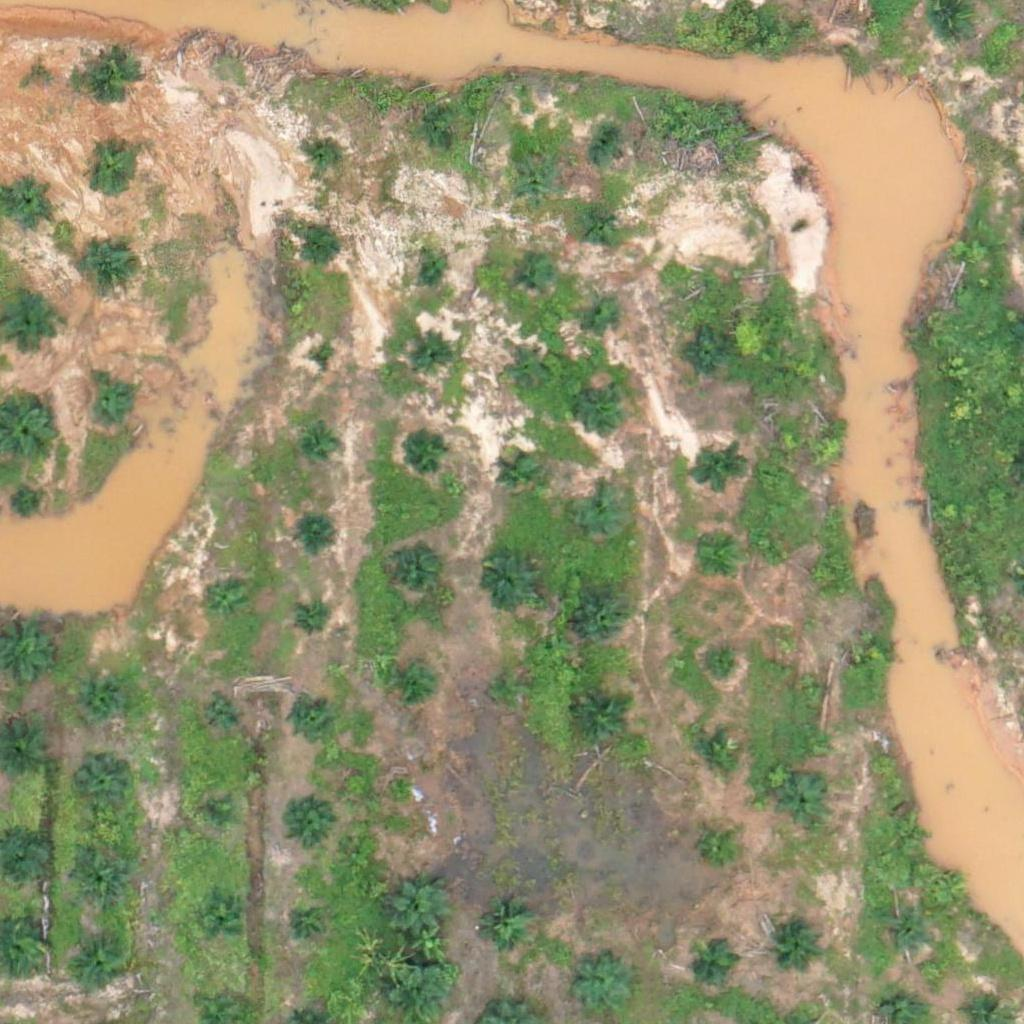Kelapa_Sawit: (475, 548, 538, 611), (473, 901, 536, 964), (572, 484, 635, 547), (387, 877, 450, 940), (571, 953, 633, 1016), (84, 146, 134, 197), (84, 52, 134, 103), (579, 591, 629, 642), (578, 694, 628, 745), (284, 796, 334, 847), (689, 726, 739, 777), (391, 545, 441, 596), (403, 426, 453, 477), (87, 242, 137, 292), (1, 175, 51, 225), (76, 856, 126, 906), (78, 938, 128, 988), (75, 753, 125, 803), (580, 382, 630, 432), (773, 914, 823, 964), (691, 939, 741, 989), (880, 909, 930, 959), (779, 778, 829, 828), (284, 898, 334, 948), (197, 894, 247, 944), (693, 446, 743, 496), (691, 536, 741, 586), (684, 331, 734, 381), (81, 381, 131, 431), (78, 676, 128, 726), (888, 816, 926, 854), (700, 827, 738, 865), (195, 793, 233, 831), (792, 668, 830, 706), (802, 555, 840, 593), (808, 430, 846, 468), (6, 482, 44, 520), (306, 134, 344, 172), (300, 520, 338, 558), (294, 600, 332, 638), (418, 248, 456, 286), (586, 290, 624, 328), (586, 203, 624, 241), (585, 128, 623, 166), (394, 664, 432, 702), (856, 630, 893, 668), (296, 229, 334, 266), (305, 345, 343, 382), (302, 429, 340, 466), (414, 332, 452, 369), (429, 128, 466, 166), (514, 165, 551, 203), (519, 257, 556, 295), (509, 353, 546, 391), (207, 577, 244, 615), (490, 670, 527, 708), (291, 696, 328, 734), (199, 694, 236, 732), (702, 649, 739, 686), (500, 457, 537, 494)
